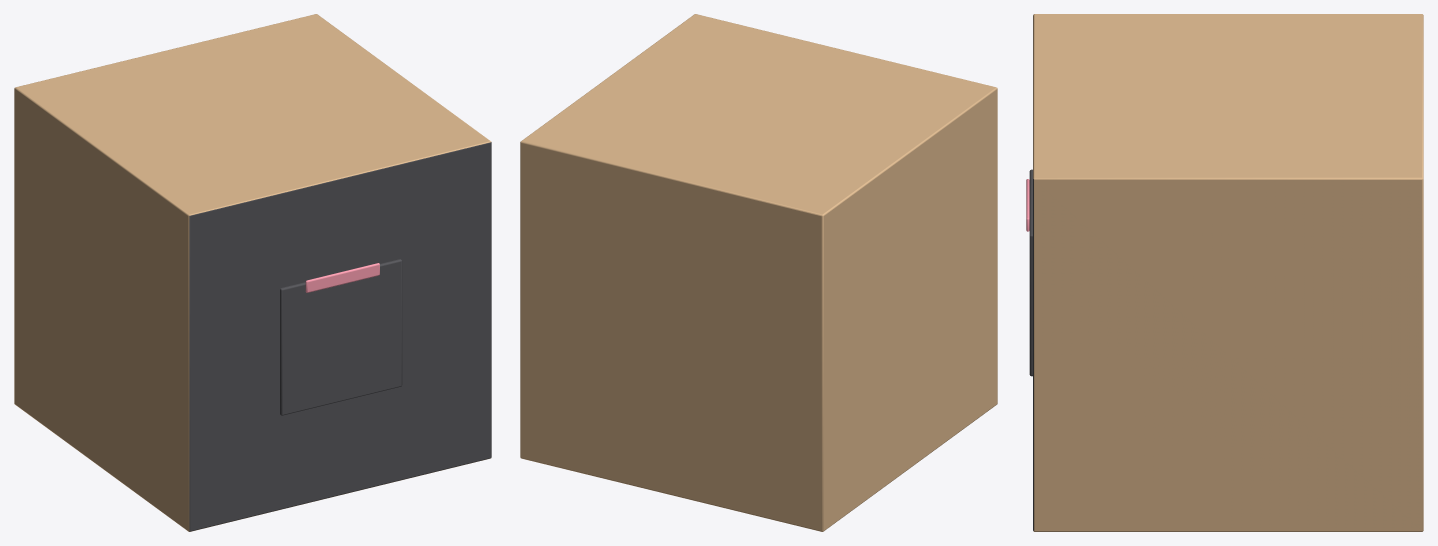
The model's file is wood-speaker.glb.
3 renders of one model, left to right at view 1: azimuth 30°, elevation 25°; view 2: azimuth 150°, elevation 25°; view 3: azimuth 270°, elevation 25°, orthographic. The views are drawn at different scales.
Parts seen in each view (by area): view 1: WoodSpeaker; view 2: WoodSpeaker; view 3: WoodSpeaker.
Boxes of the visible parts, bbox=[...] form: WoodSpeaker: bbox=[14, 14, 491, 531]; WoodSpeaker: bbox=[520, 14, 997, 531]; WoodSpeaker: bbox=[1026, 14, 1423, 531].
Bounding box in the file's own units: 1.15 × 1.15 × 1.17.
